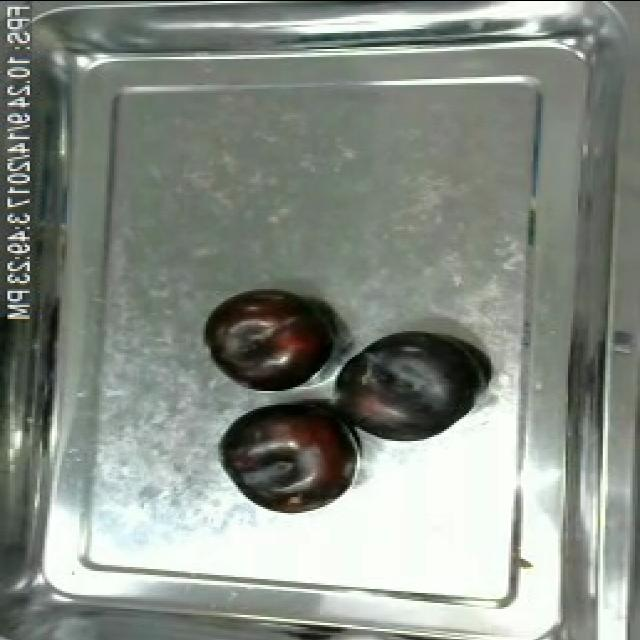Fruit: (213, 394, 367, 518), (330, 324, 489, 444), (198, 282, 340, 390)
